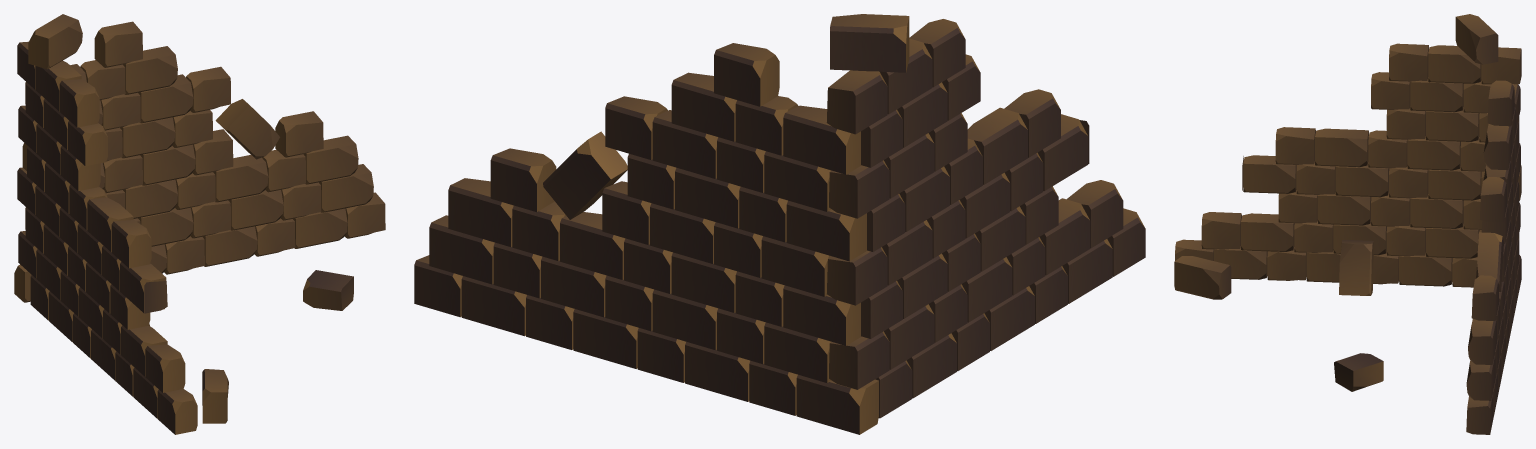
The model's file is half of walk.fbx.
3 renders of one model, left to right at view 1: azimuth 30°, elevation 25°; view 2: azimuth 150°, elevation 25°; view 3: azimuth 270°, elevation 25°, orthographic. The views are drawn at different scales.
Visible parts, largest first — view 1: Cube.002; view 2: Cube.002; view 3: Cube.002.
Boxes of the visible parts, box(x1,y1,x2,y2) form: Cube.002: box(14, 14, 385, 434); Cube.002: box(414, 14, 1145, 434); Cube.002: box(1174, 14, 1521, 434).
Bounding box in the file's own units: 1513 × 1112 × 1330.
